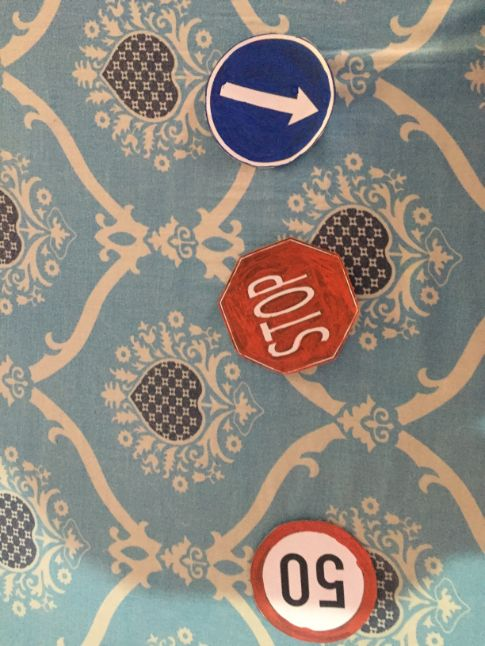go-stright: (205, 34, 336, 168)
speed-50: (249, 520, 376, 641)
stop: (220, 241, 362, 372)
